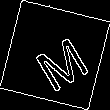M_NW: (22, 21, 88, 89)
